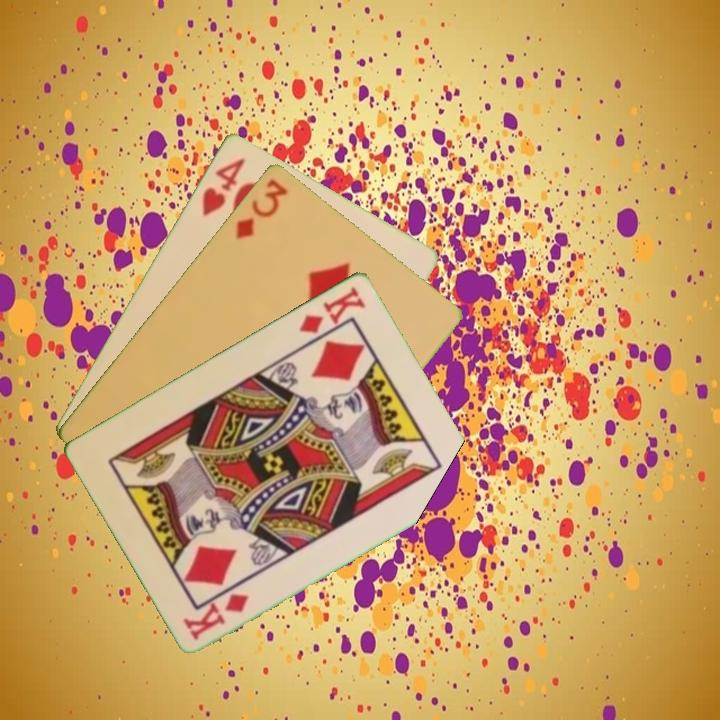3d: (231, 174, 291, 242)
4h: (198, 153, 248, 219)
Kd: (295, 282, 369, 337), (180, 589, 253, 643)
